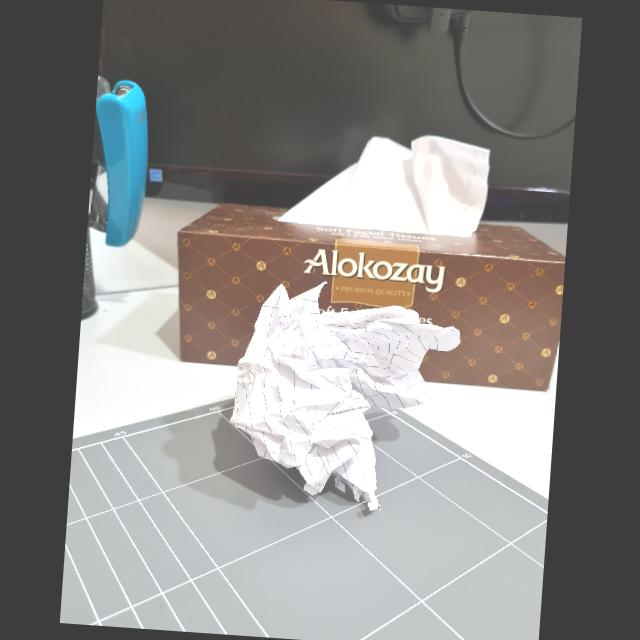trash: (210, 288, 460, 504)
